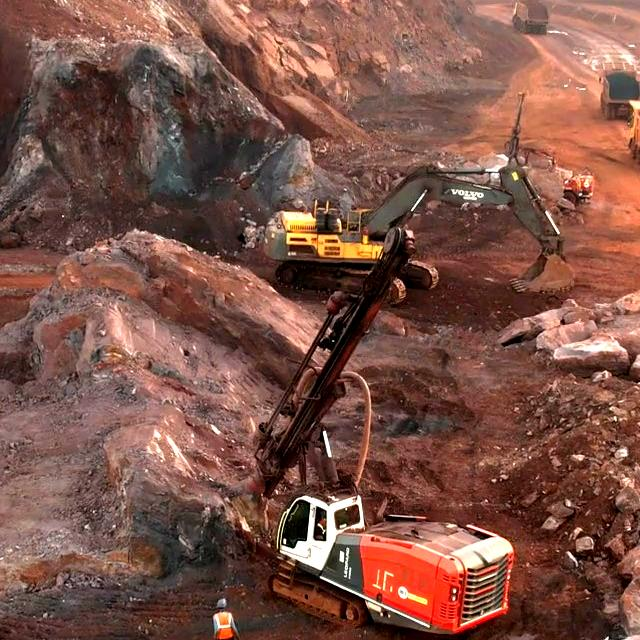Blast rig: (281, 521, 504, 617)
Dumper truck: (512, 0, 546, 29), (606, 72, 635, 104)
Excavator: (269, 209, 416, 298)
person: (212, 605, 237, 640)
